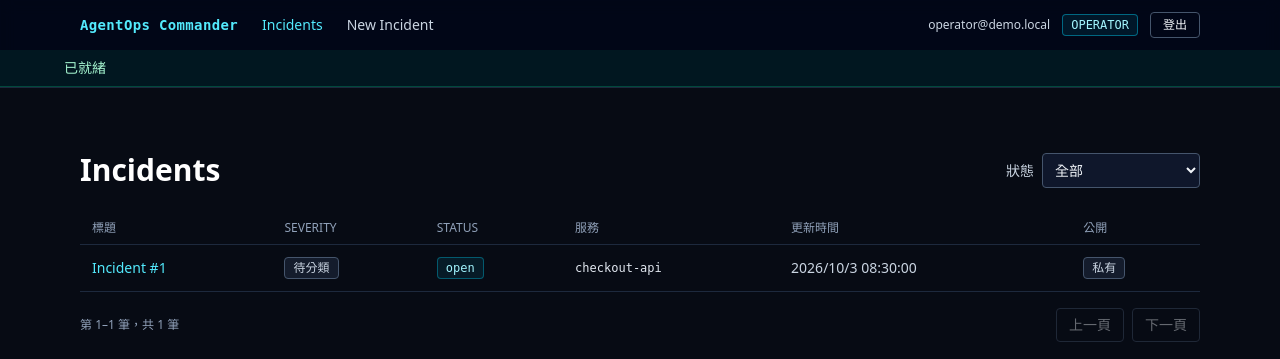
it: /incidents › filter 沒有結果時顯示篩選專用的空狀態
Select "failed" in the dropdown labelled "狀態" at [1121, 170], box [1042, 153, 1200, 188]
Wait 60 ms
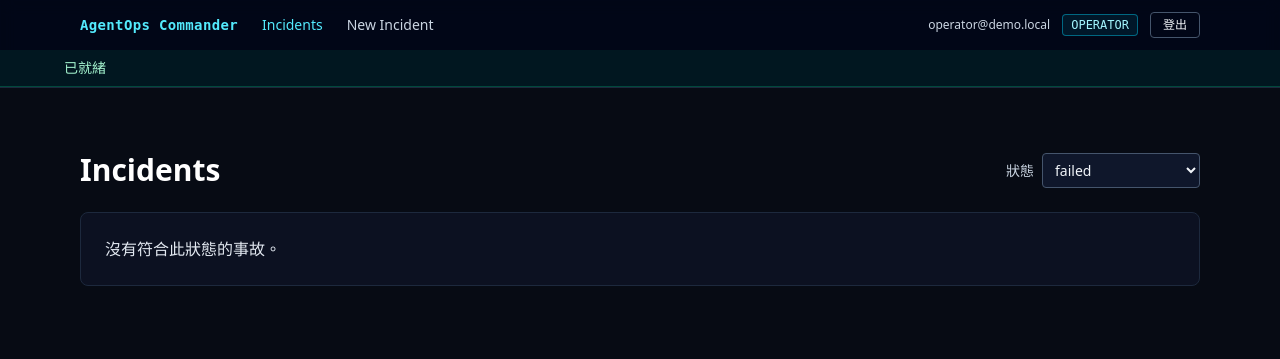
Check: the text "沒有符合此狀態的事故。" is shown, box [80, 212, 1200, 286]
